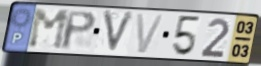2: (200, 16, 232, 59)
5: (170, 15, 203, 58)
M: (27, 8, 71, 51)
P: (60, 10, 98, 52)
V: (101, 9, 138, 56), (135, 12, 167, 55)
